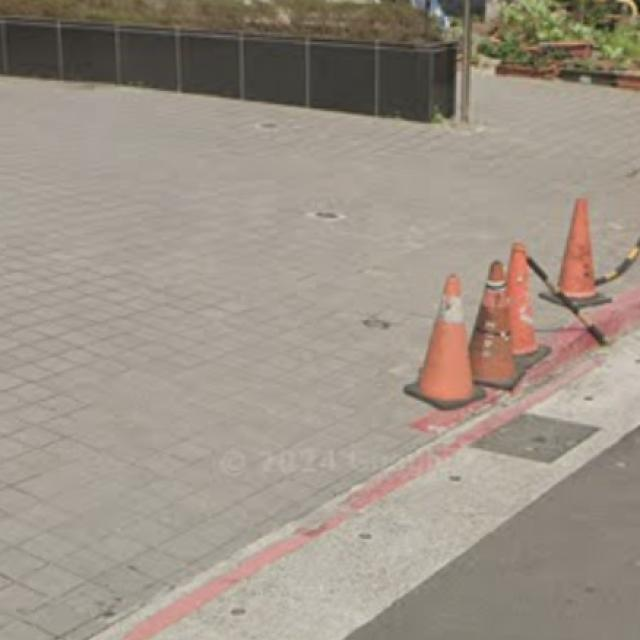cone: (419, 259, 476, 415), (552, 183, 614, 311), (497, 231, 555, 360), (480, 248, 516, 385)
